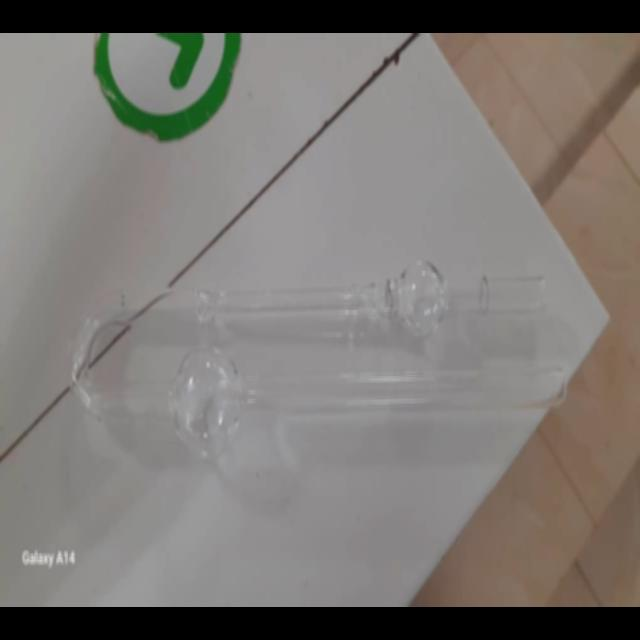Ostwald Viscometer: (54, 253, 572, 462)
